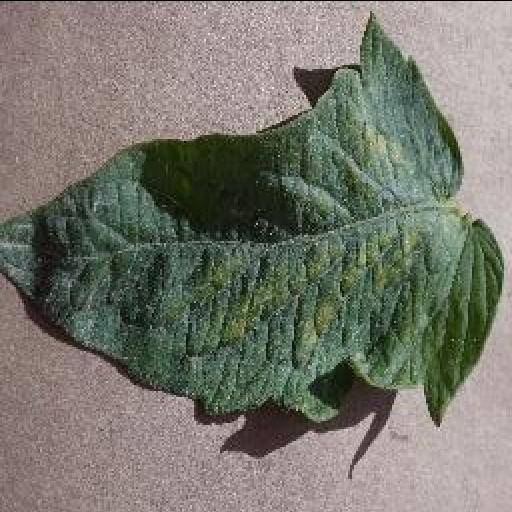disease_tomato: (0, 12, 502, 420)
